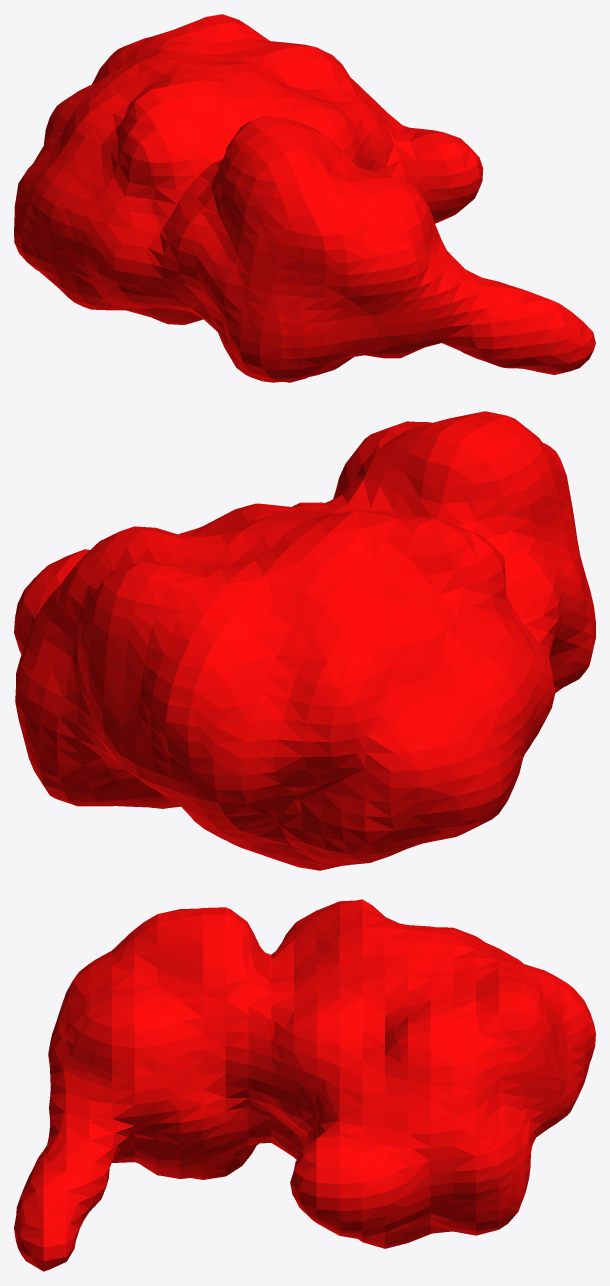
The model's file is cheR_coarse.dae.
The picture shows the model from 3 angles, top to bottom: view 1: azimuth 30°, elevation 25°; view 2: azimuth 150°, elevation 25°; view 3: azimuth 270°, elevation 25°; orthographic projection. The views are drawn at different scales.
Visible parts, largest first — view 1: cheR; view 2: cheR; view 3: cheR.
Part boxes in pixels (x1,y1,x2,y2): cheR: [14, 14, 595, 382]; cheR: [14, 411, 595, 870]; cheR: [14, 899, 595, 1271].
Size of the model in its own units: 59.99 by 35.78 by 71.93.
